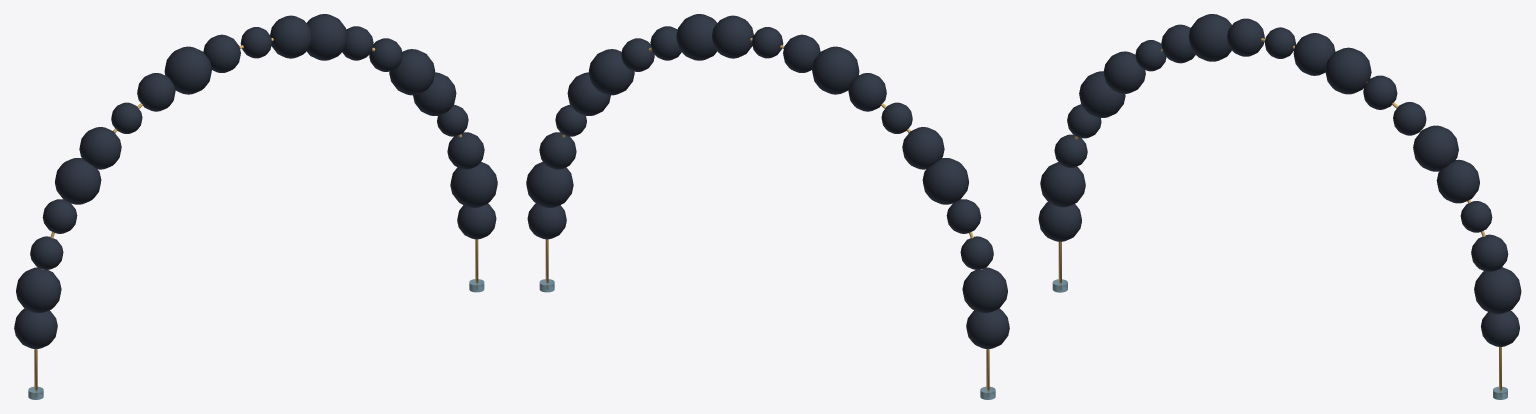
File: threshold-bubble-arch-a-lod0.glb
3 renders of one model, left to right at view 1: azimuth 30°, elevation 25°; view 2: azimuth 150°, elevation 25°; view 3: azimuth 330°, elevation 25°, orthographic.
Parts seen in each view (by area): view 1: frame; view 2: frame; view 3: frame.
Part boxes in pixels (left/top/right/bottom): frame: left=14, top=14, right=497, bottom=399; frame: left=526, top=14, right=1009, bottom=399; frame: left=1038, top=14, right=1521, bottom=399.
Bounding box in the file's own units: 17.24 × 10.92 × 1.5.
